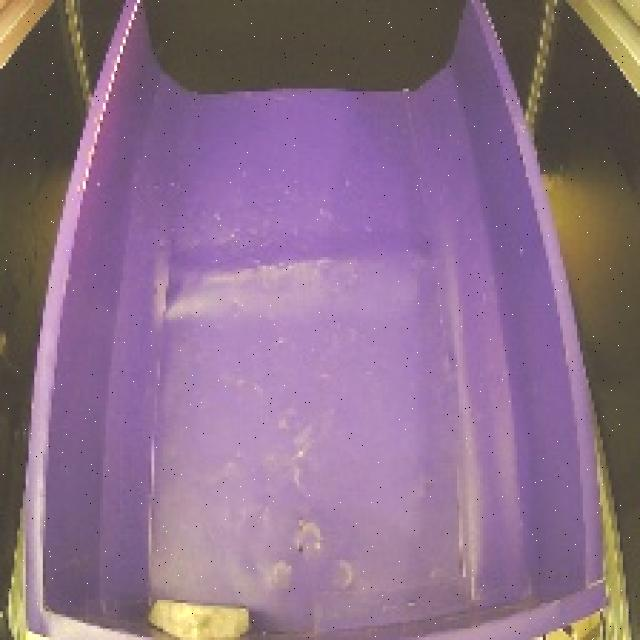china: (141, 585, 267, 640)
